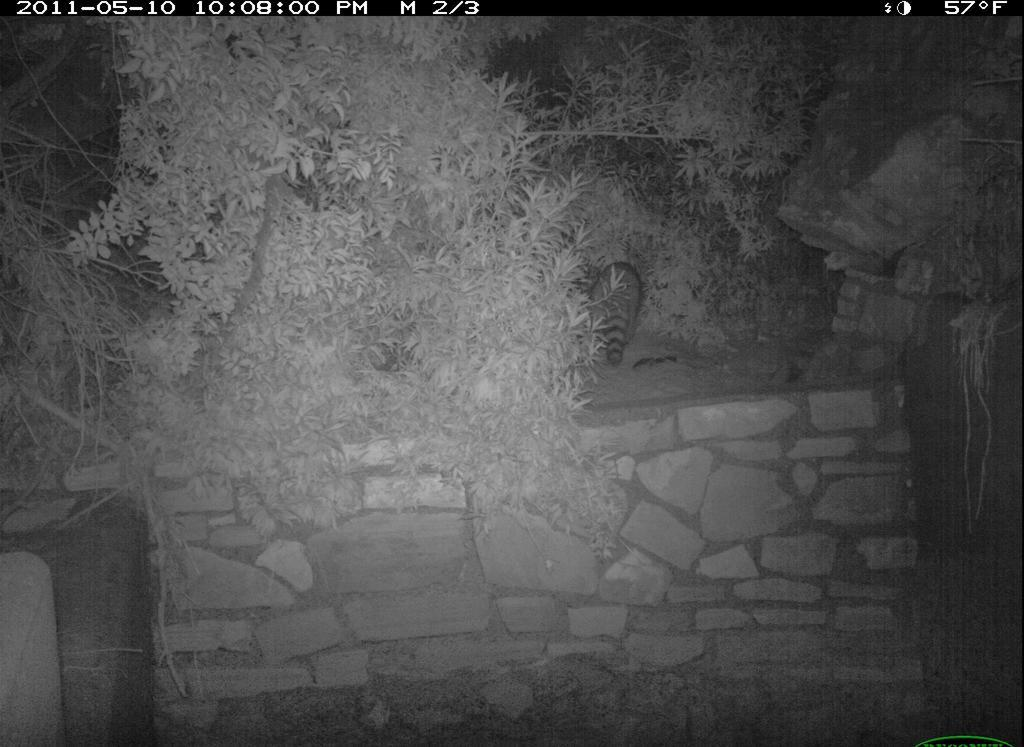raccoon: (583, 254, 655, 377)
